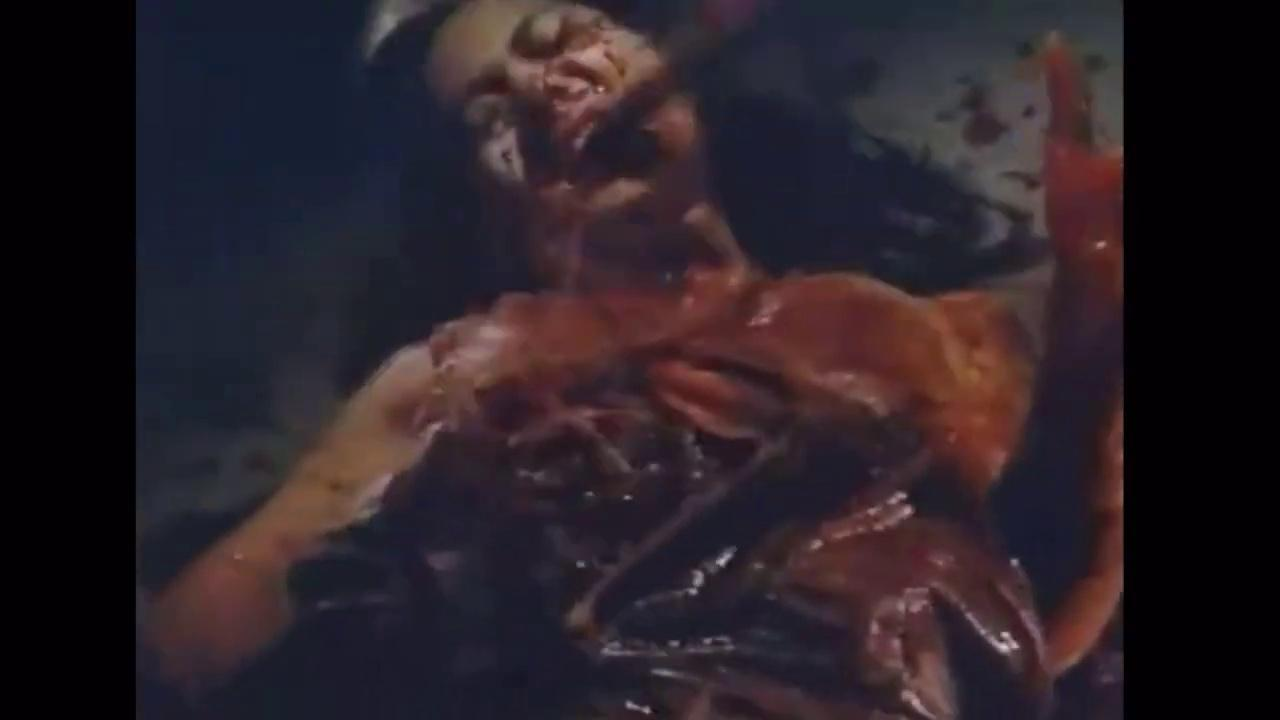Fire: (938, 82, 1008, 147), (998, 164, 1040, 190), (1021, 102, 1036, 122)
